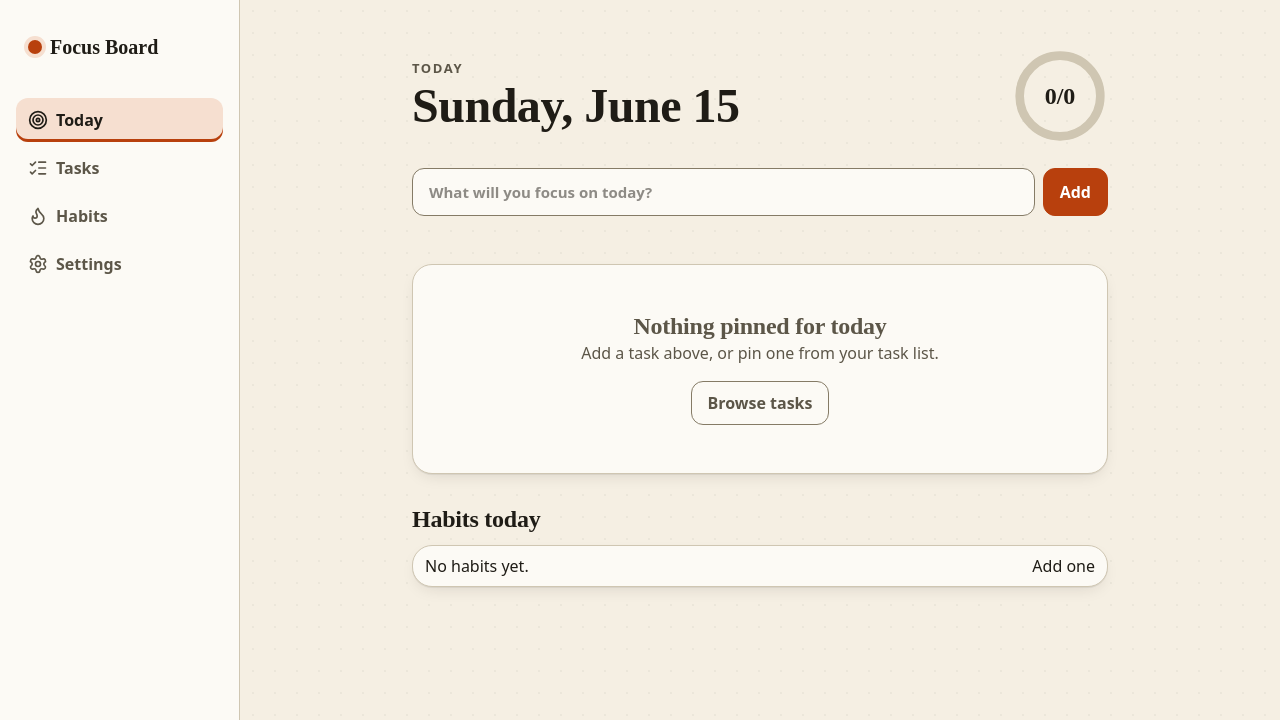
it: AC5: Today list › pins tasks added from Today and shows the long-form date
The width and height of the screenshot is (1280, 720).
Expected: the heading "Sunday, June 15" is shown, [412,78,740,133]
In the field named "New task for today": coordinates (723, 192) [412,168,1035,216], type "Plan day"
Then press Enter
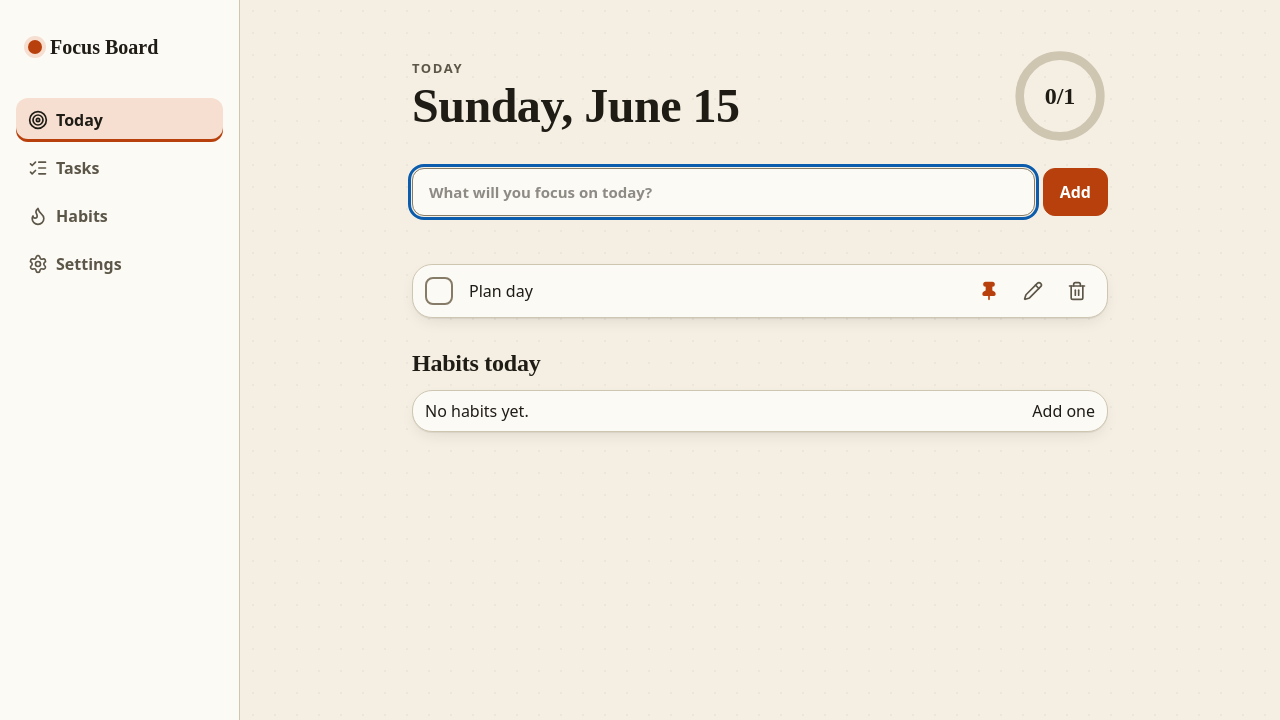
Result: the list named "Today's tasks" reads "Plan day" at [469,280,533,302]
